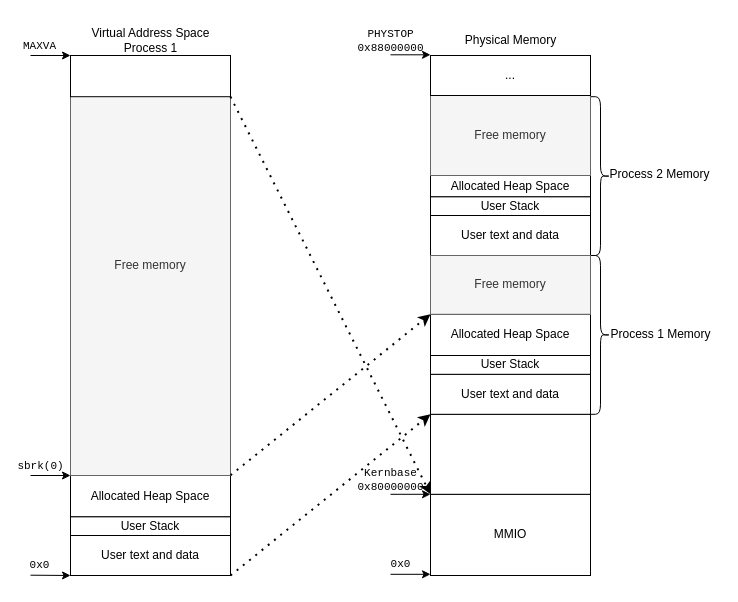
Some shapes in this 738 by 602 pixel diagram are drawn without their labels. Here are the shapes that lost their labels. From the top down, the centre of each, then its label:
At [150,75]: "Trampoline Page".
At [510,453]: "Kernel data and text".
